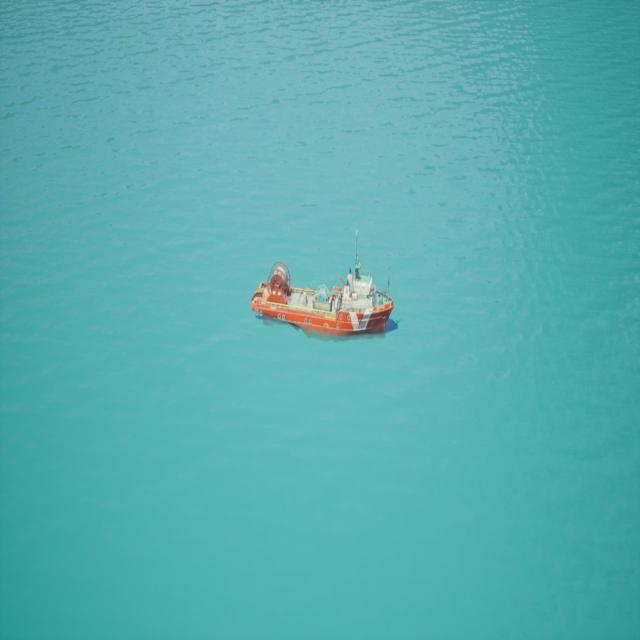tug boat: (255, 226, 407, 377)
